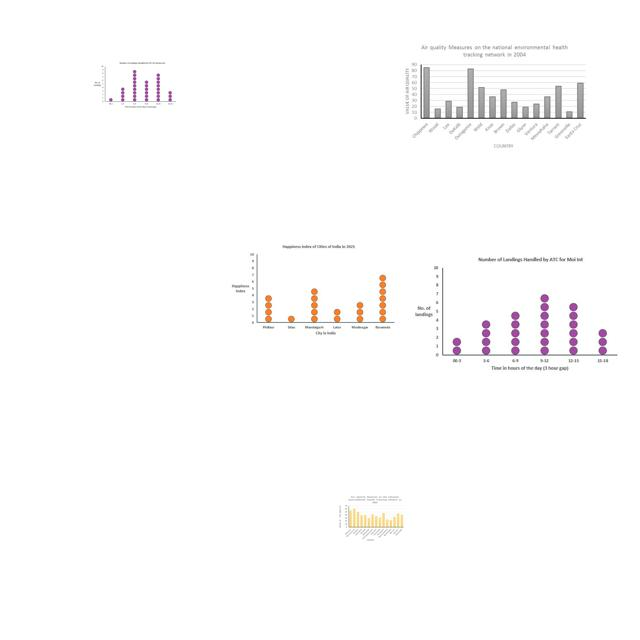Graph: (408, 252, 622, 376), (400, 40, 590, 153), (227, 242, 396, 340), (91, 60, 178, 110), (338, 495, 406, 542)
